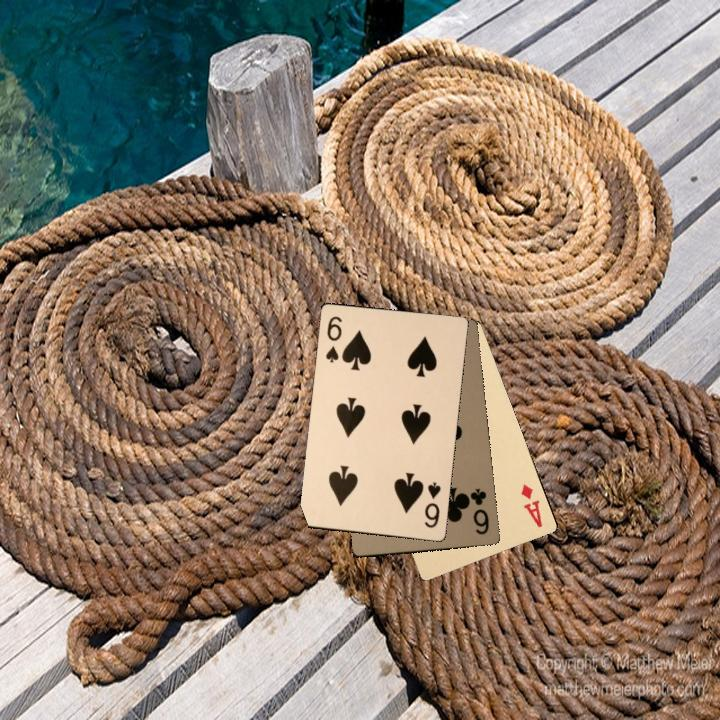6c: (466, 484, 491, 537)
6s: (321, 312, 345, 365), (420, 478, 443, 530)
Ad: (517, 479, 545, 530)
